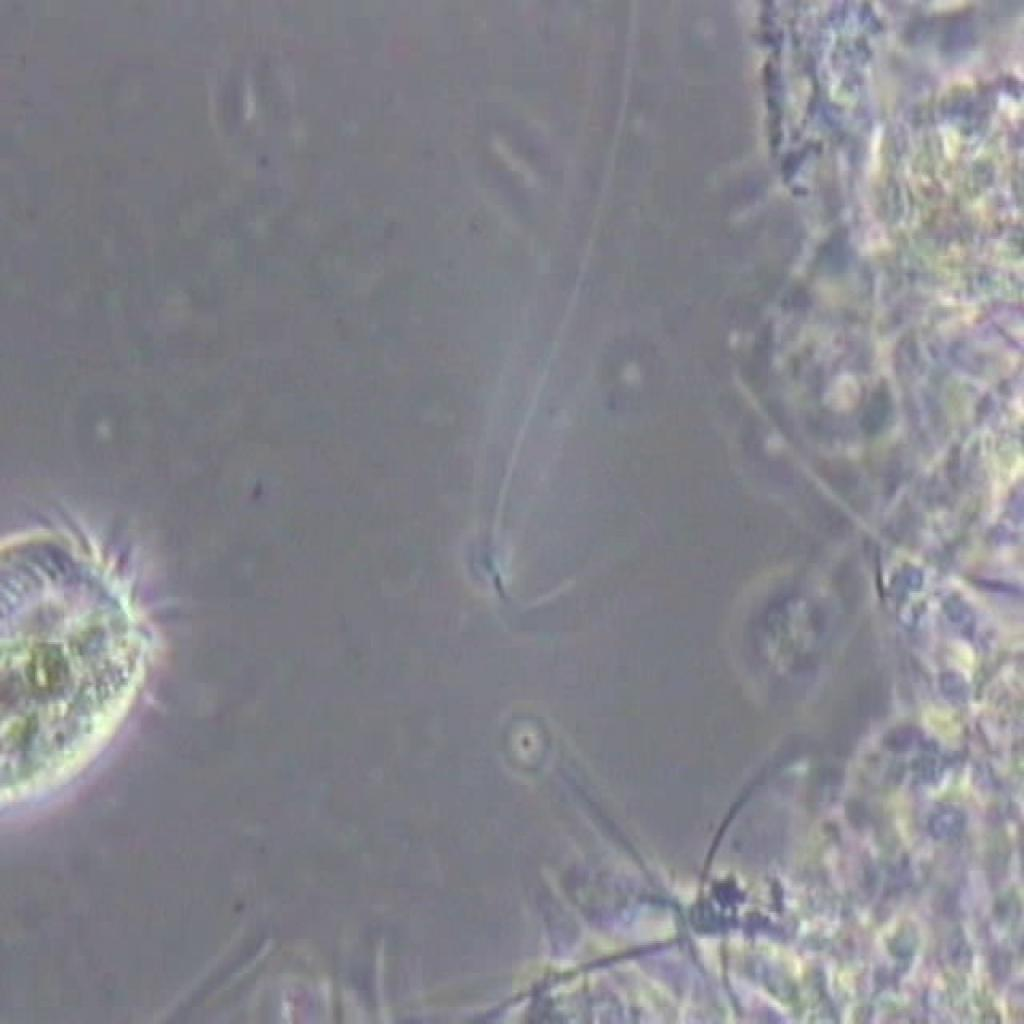Euplotes: (0, 461, 206, 850)
